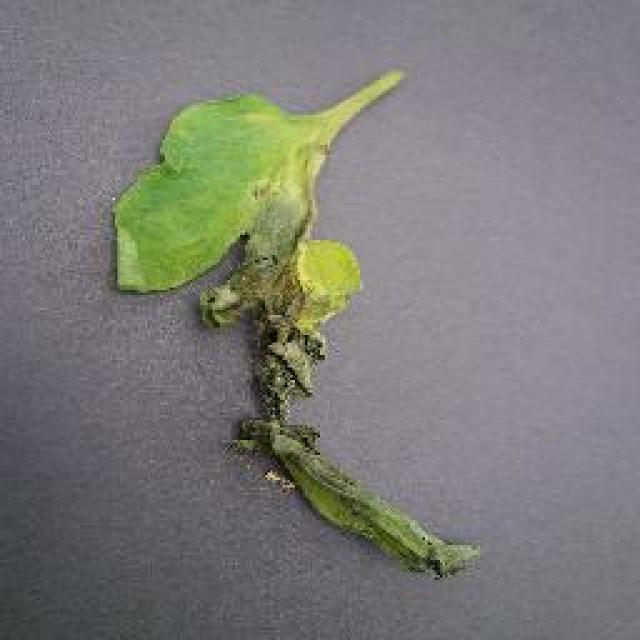Tomato Late Blight: (208, 133, 568, 575)
